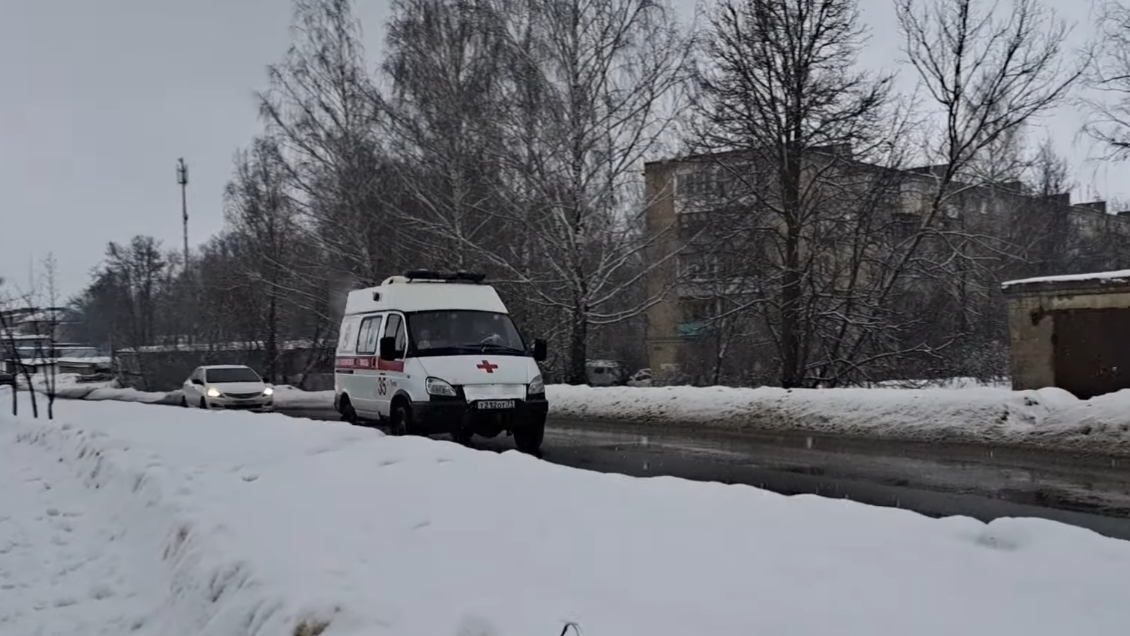ambulance: (331, 266, 549, 454)
non emergency car: (178, 361, 277, 417)
